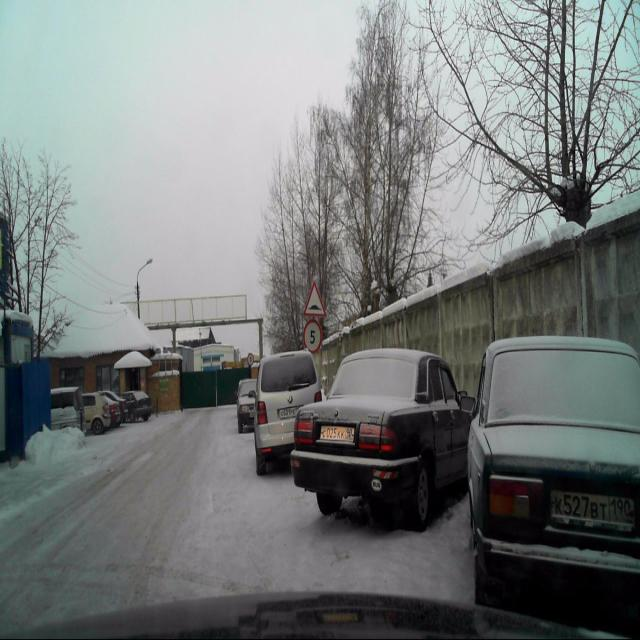road sign: (303, 280, 326, 318)
